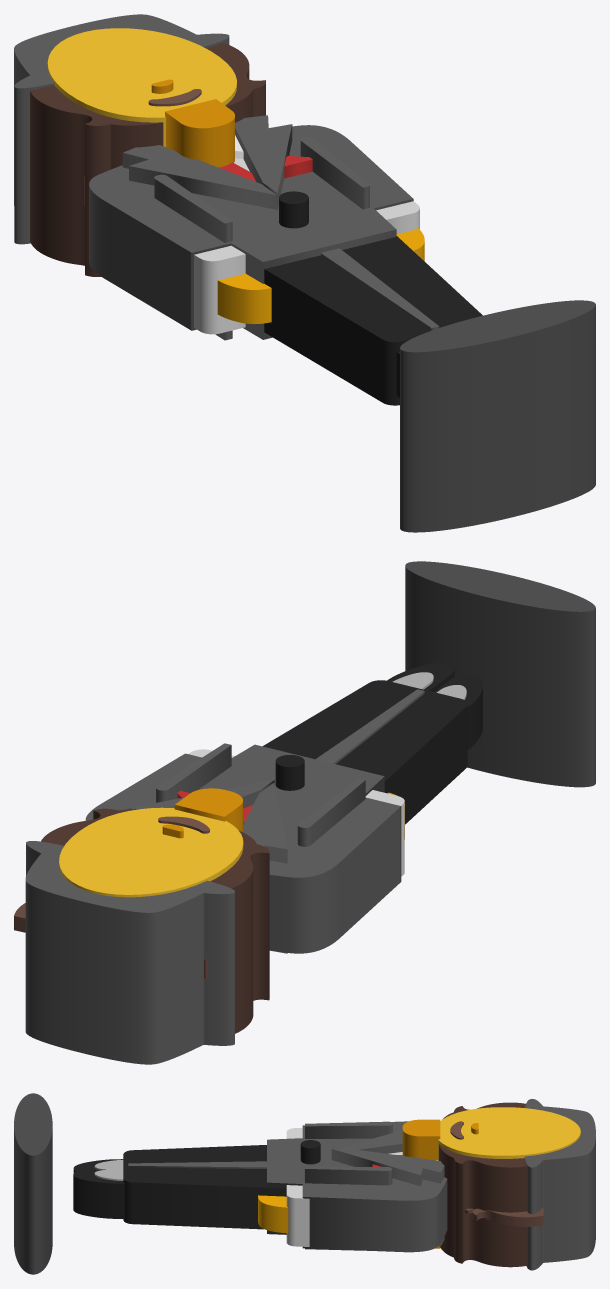
The model's file is emoji_u1f574.glb.
3 renders of one model, top to bottom at view 1: azimuth 30°, elevation 25°; view 2: azimuth 150°, elevation 25°; view 3: azimuth 270°, elevation 25°, orthographic. The views are drawn at different scales.
Parts seen in each view (by area): view 1: emoji_u1f574; view 2: emoji_u1f574; view 3: emoji_u1f574.
Part boxes in pixels (box(x1,y1,x2,y2)): emoji_u1f574: box(14, 14, 595, 532); emoji_u1f574: box(14, 561, 595, 1064); emoji_u1f574: box(14, 1093, 595, 1274).
Size of the model in its own units: 0.0106 by 0.0074 by 0.0328.
